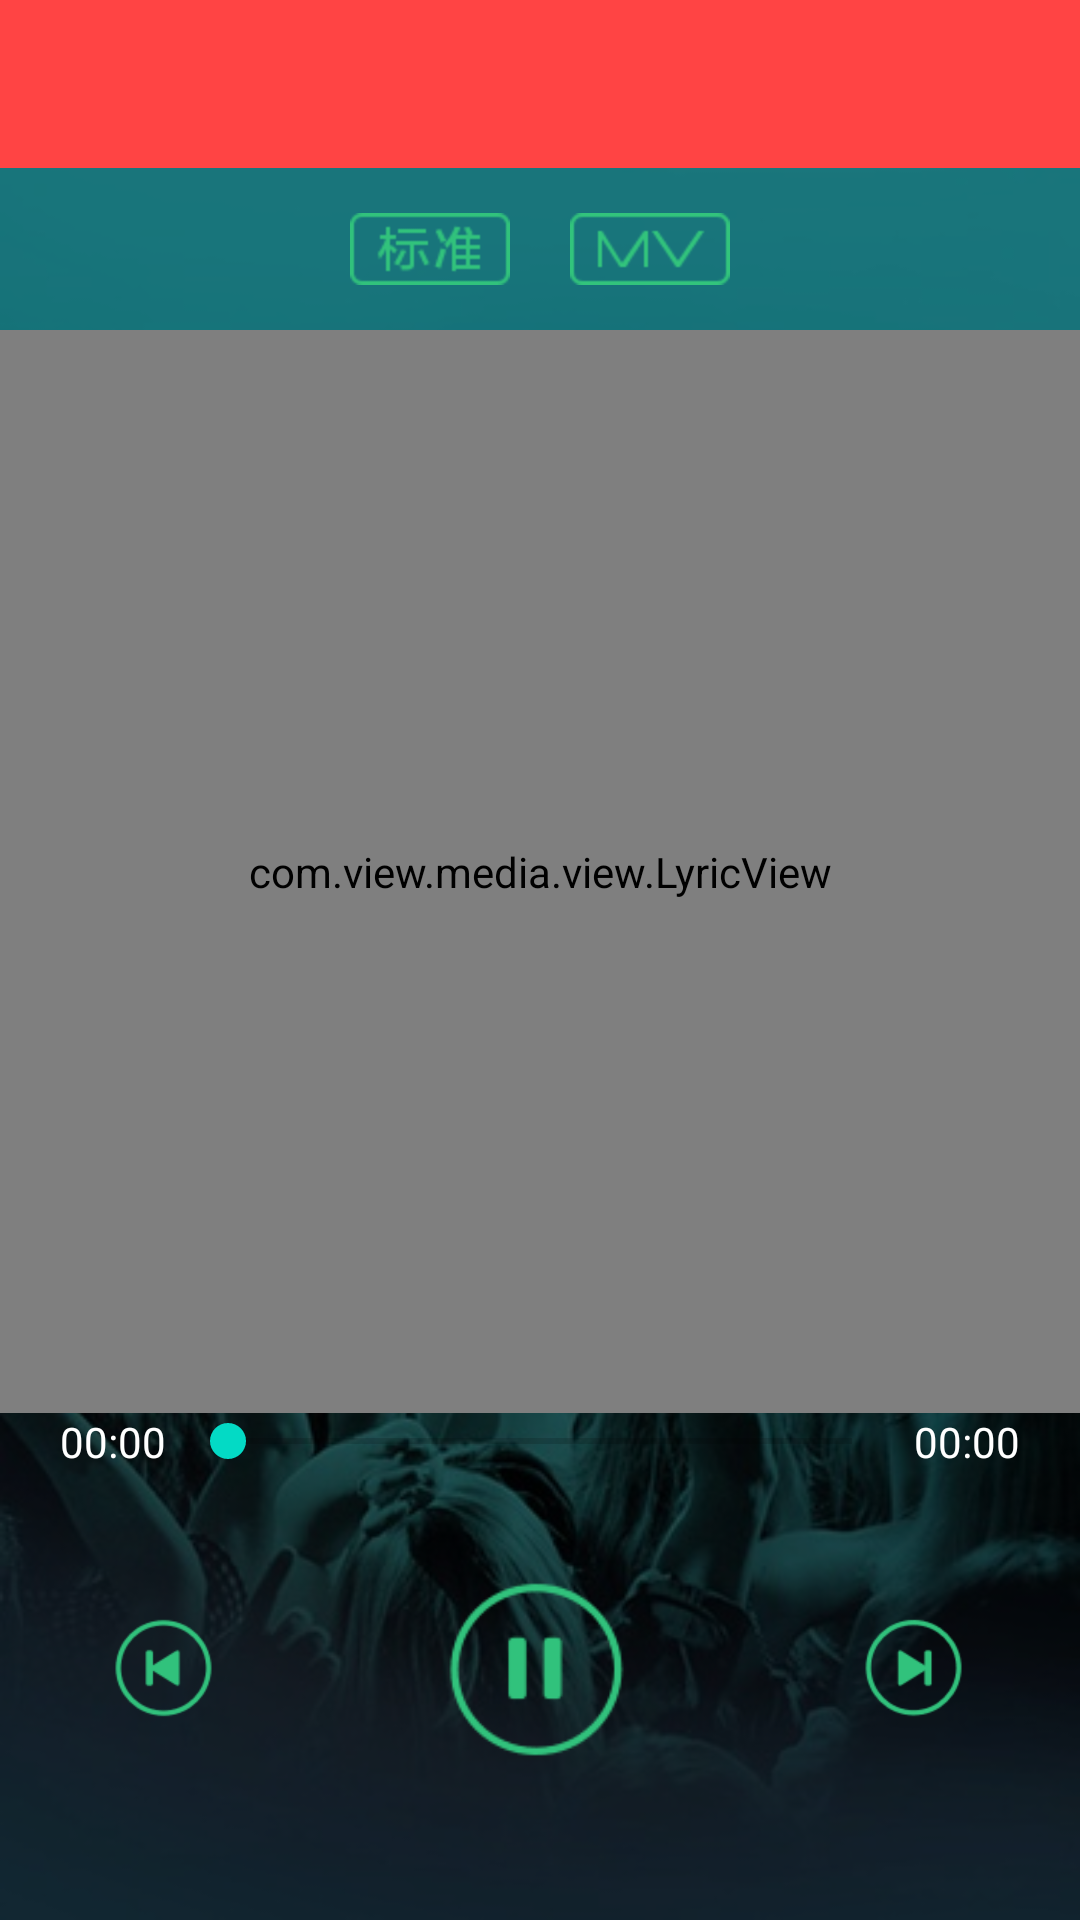

Icon click points for this 1080px×1920px phone screenshot, format [x,y]:
landscape next: [913,1667]
landscape pause: [540,1649]
landscape pre: [163,1668]
